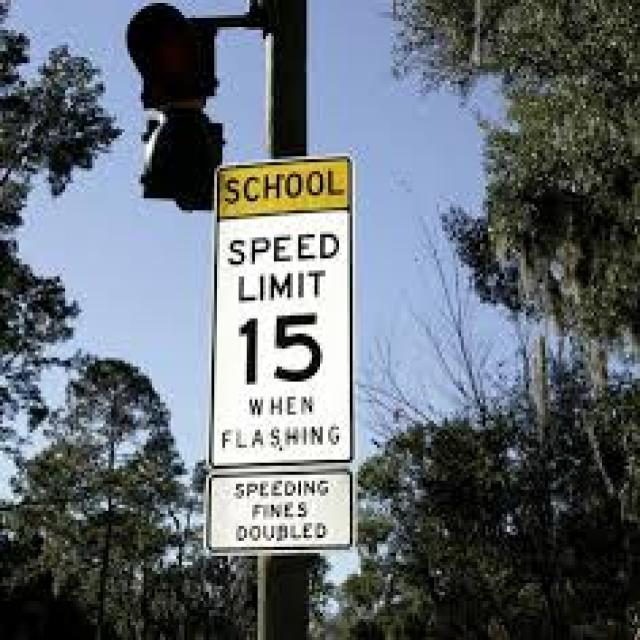speedLimit15: (210, 212, 351, 392)
